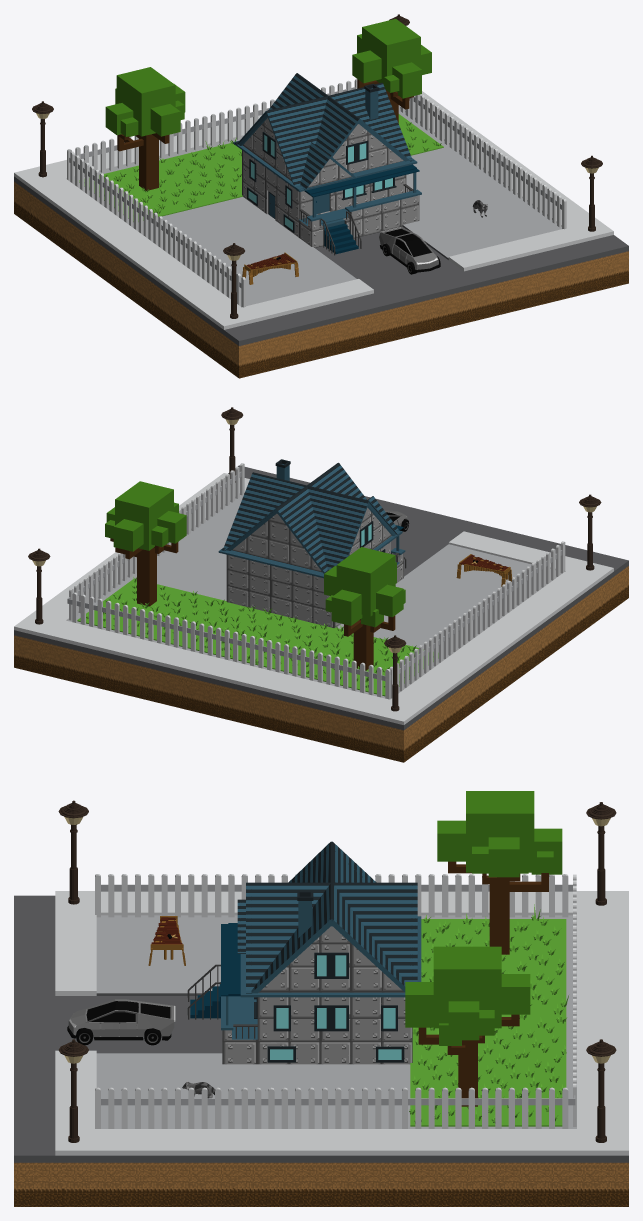
3 views of the same model, one above another, from view 1: azimuth 30°, elevation 25°; view 2: azimuth 150°, elevation 25°; view 3: azimuth 270°, elevation 25° (orthographic). The views are drawn at different scales.
Visible parts, largest first — view 1: Cube.004, Cube.078, VEHICLES_CYBERTRUCK, OBJRANDOM_MARIMBA; view 2: Cube.004, Cube.078, OBJRANDOM_MARIMBA; view 3: Cube.004, Cube.078, VEHICLES_CYBERTRUCK, OBJRANDOM_MARIMBA.
Part boxes in pixels (x1,y1,x2,y2): Cube.004: (14,14,628,378); Cube.078: (233,73,421,255); VEHICLES_CYBERTRUCK: (379,227,440,274); OBJRANDOM_MARIMBA: (242,252,298,284); Cube.004: (14,407,628,762); Cube.078: (218,459,406,627); OBJRANDOM_MARIMBA: (456,554,512,586); Cube.004: (14,791,628,1206); Cube.078: (187,841,421,1064); VEHICLES_CYBERTRUCK: (67,999,175,1045); OBJRANDOM_MARIMBA: (148,916,185,965).
Bounding box in the file's own units: 4000 × 1609 × 4000.
Materials: 30 (5 with a texture image).
